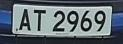2: (52, 8, 67, 34)
6: (80, 8, 94, 34)
9: (66, 8, 80, 35), (93, 8, 107, 34)
A: (17, 7, 32, 34)
T: (32, 7, 48, 35)
